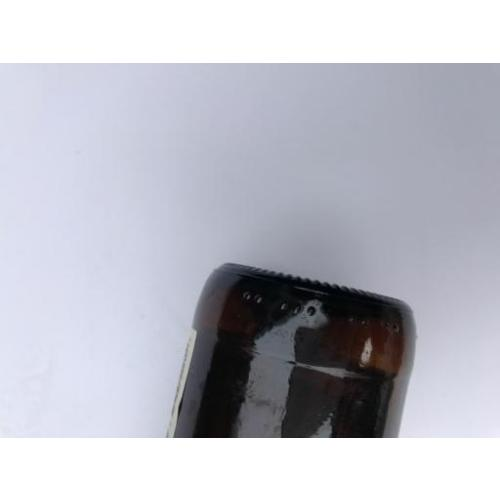glass: (178, 262, 416, 438)
